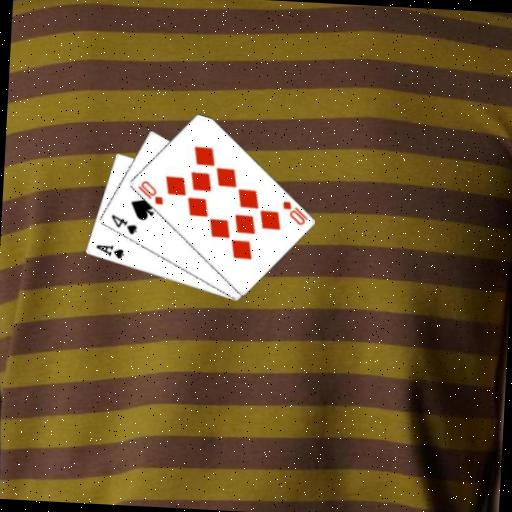10D: (278, 198, 311, 228), (133, 178, 165, 207)
4S: (107, 212, 139, 237)
AS: (93, 241, 126, 261)
